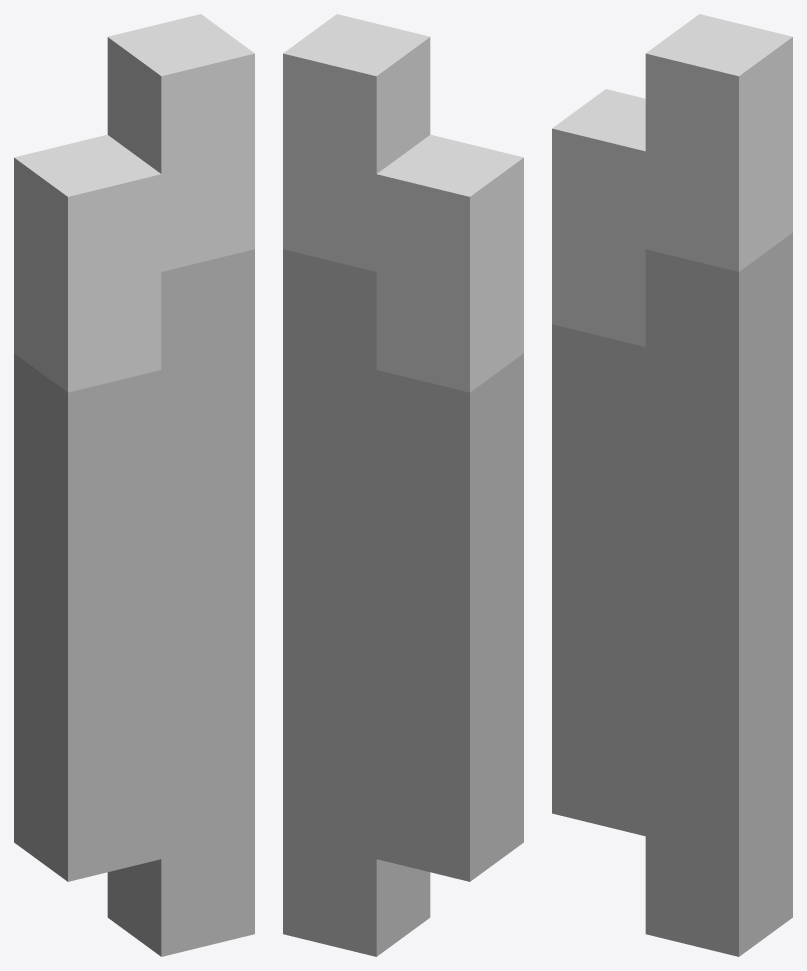
The model's file is ConstructionMaterials-89.obj.
3 views of the same model, side by side, from view 1: azimuth 30°, elevation 25°; view 2: azimuth 150°, elevation 25°; view 3: azimuth 330°, elevation 25° (orthographic).
Size of the model in its own units: 0.2 by 0.9 by 0.1.
1 material, 1 textured.
